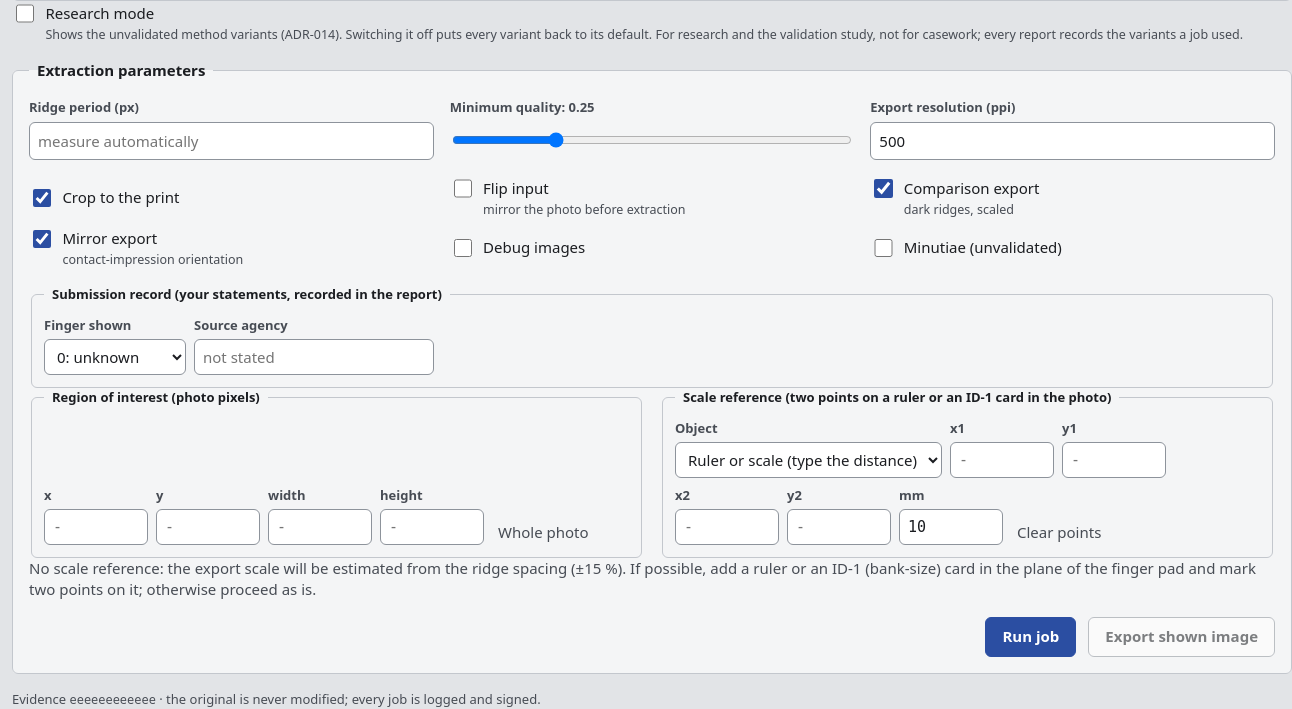
Scenario: where the print was extracted › outlines the job's print area on the original photo, with its frame and the rest dimmed
(page scrolled)
Click the button "Run job".
click(1031, 637)  # box [985, 617, 1076, 657]
(page scrolled)
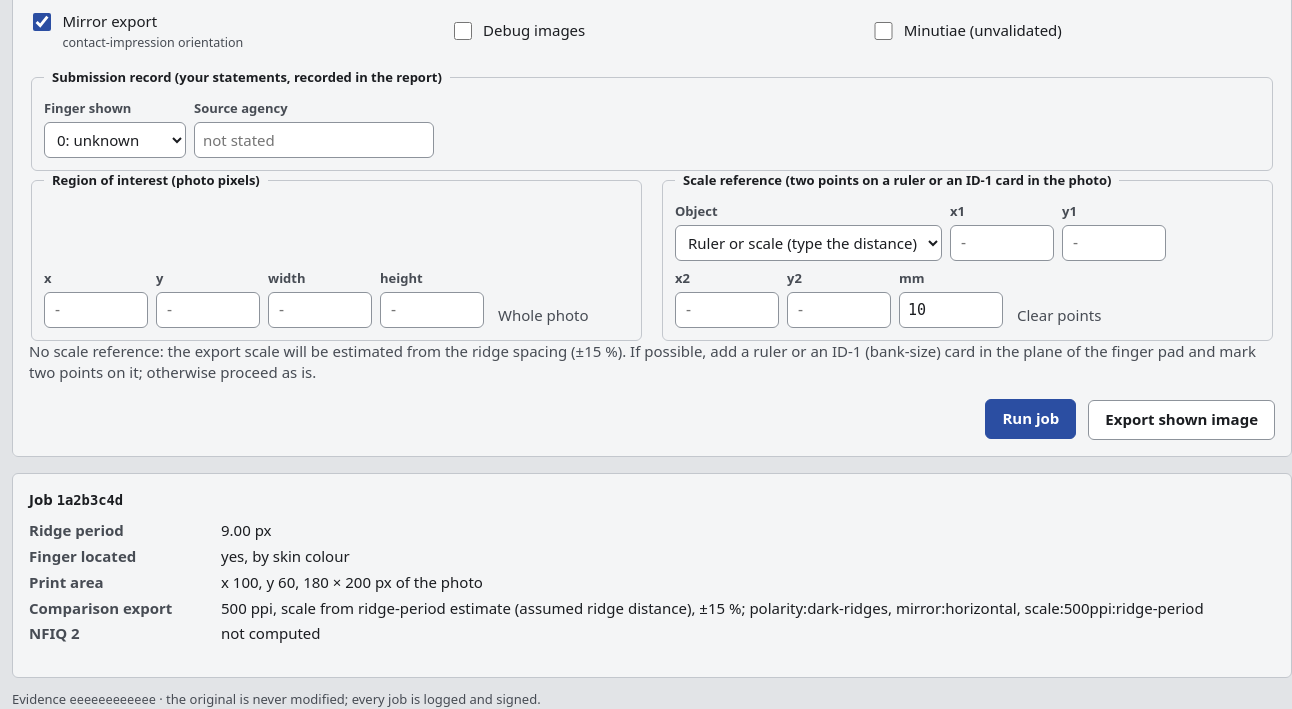
Result: the heading "Job 1a2b3c4d" is shown at [29, 489, 356, 509]
Result: the text "x 100, y 60, 180 × 200 px of the photo" is shown at [221, 572, 483, 592]
